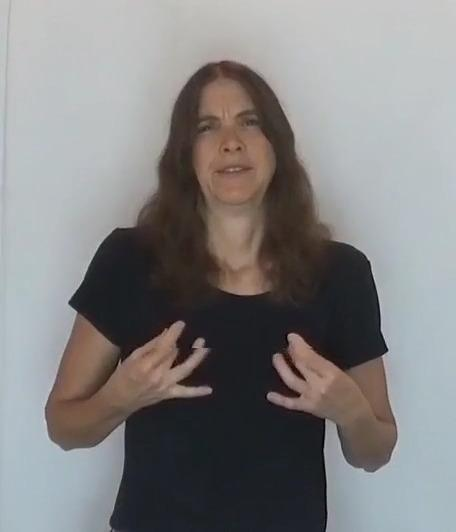Dolor: (28, 54, 431, 477)
